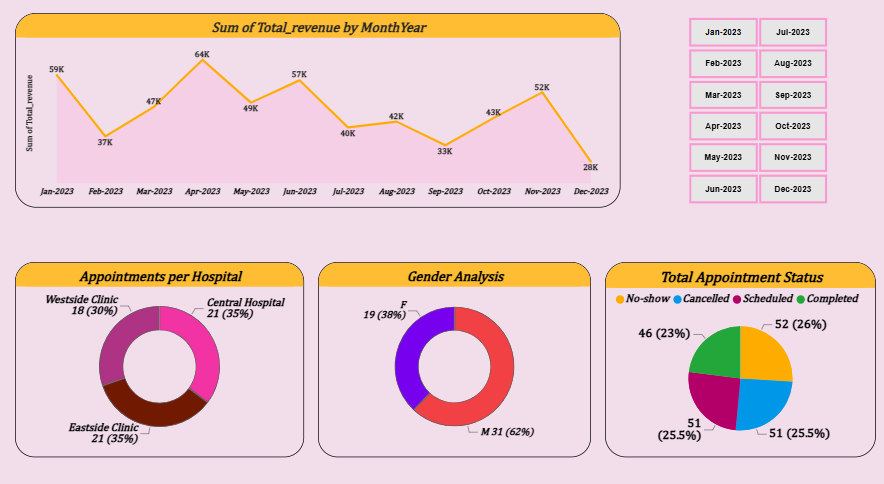

What the dashboard file says about the page in this screenshot:
{"tool":"powerbi","page":{"name":"Page 2","canvas":[1280,720],"ordinal":1},"visuals":[{"type":"lineChart","fields":{"Y":["Sum(rev_as_mon_basis.Total_revenue)"],"Category":["rev_as_mon_basis.MonthYear"]},"box":[24.1,24.1,865.4,278.2],"z":0},{"type":"donutChart","title":"Gender Analysis","fields":{"Y":["Sum(Patients by gender.Distribution of gender)"],"Category":["Patients by gender.Gender"]},"box":[457.1,380,390,278.6],"z":1000},{"type":"donutChart","title":" Appointments per Hospital","fields":{"Category":["app_perdoc_branch.hospital_branch"],"Y":["Sum(app_perdoc_branch.appointments_per_doctor)"]},"box":[24.3,380,412.9,278.6],"z":2000},{"type":"pieChart","title":"Total Appointment Status","fields":{"Category":["Appointment status.status"],"Y":["Sum(Appointment status.Status_count)"]},"box":[867.1,380,387.1,278.6],"z":3000},{"type":"slicer","fields":{"Values":["rev_as_mon_basis.MonthYear"]},"box":[961.4,24.3,247.1,278.6],"z":4000}]}

Visuals, with their boxes in screenshot pixels (x1, y1, x2, y2), scaled from the page's 1280x720 canvas onto the 884x484 screenshot:
lineChart - Sum(rev_as_mon_basis.Total_revenue) x rev_as_mon_basis.MonthYear: 17/16/614/203
"Gender Analysis" donutChart: 316/255/585/443
" Appointments per Hospital" donutChart: 17/255/302/443
"Total Appointment Status" pieChart: 599/255/866/443
slicer - rev_as_mon_basis.MonthYear: 664/16/835/204
